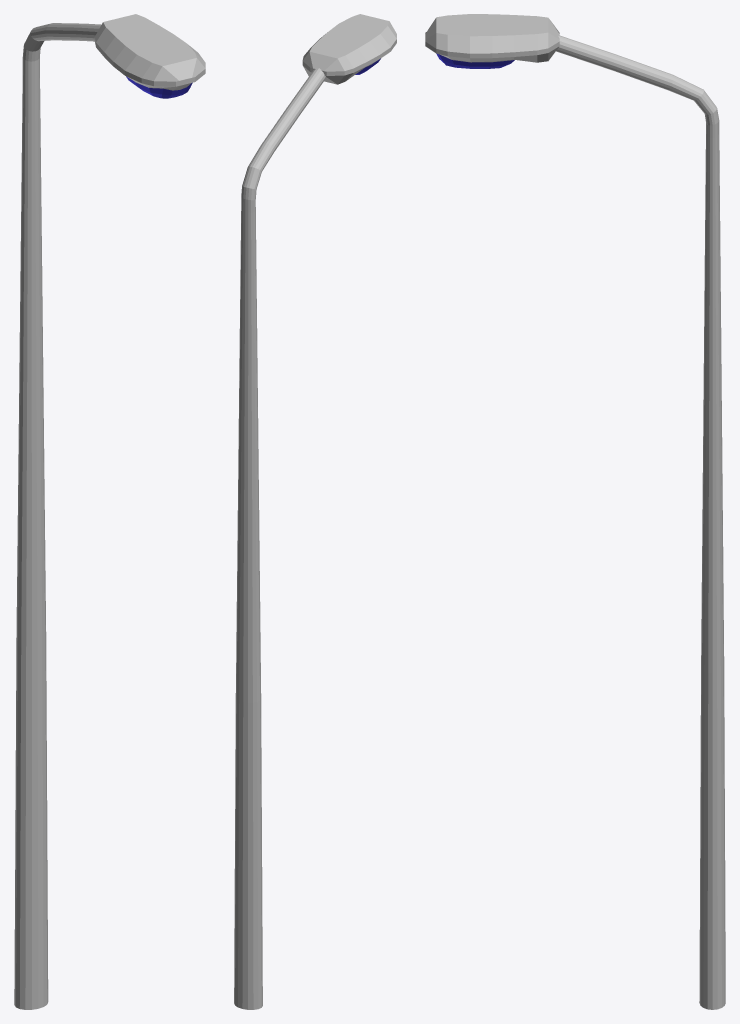
File: lantaarnpaal.fbx
The picture shows the model from 3 angles, left to right: view 1: azimuth 30°, elevation 25°; view 2: azimuth 150°, elevation 25°; view 3: azimuth 270°, elevation 25°; orthographic projection. The views are drawn at different scales.
Visible parts, largest first — view 1: Cube.002; view 2: Cube.002; view 3: Cube.002.
Part boxes in pixels (box(x1,y1,x2,y2)): Cube.002: box(14, 14, 205, 1009); Cube.002: box(234, 14, 396, 1009); Cube.002: box(425, 14, 725, 1009).
Bounding box in the file's own units: 82.22 × 1124 × 313.
